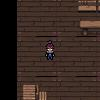Obstacle: (21, 82, 49, 100), (78, 19, 100, 36), (76, 0, 100, 13)
Victim: (42, 39, 58, 60)
